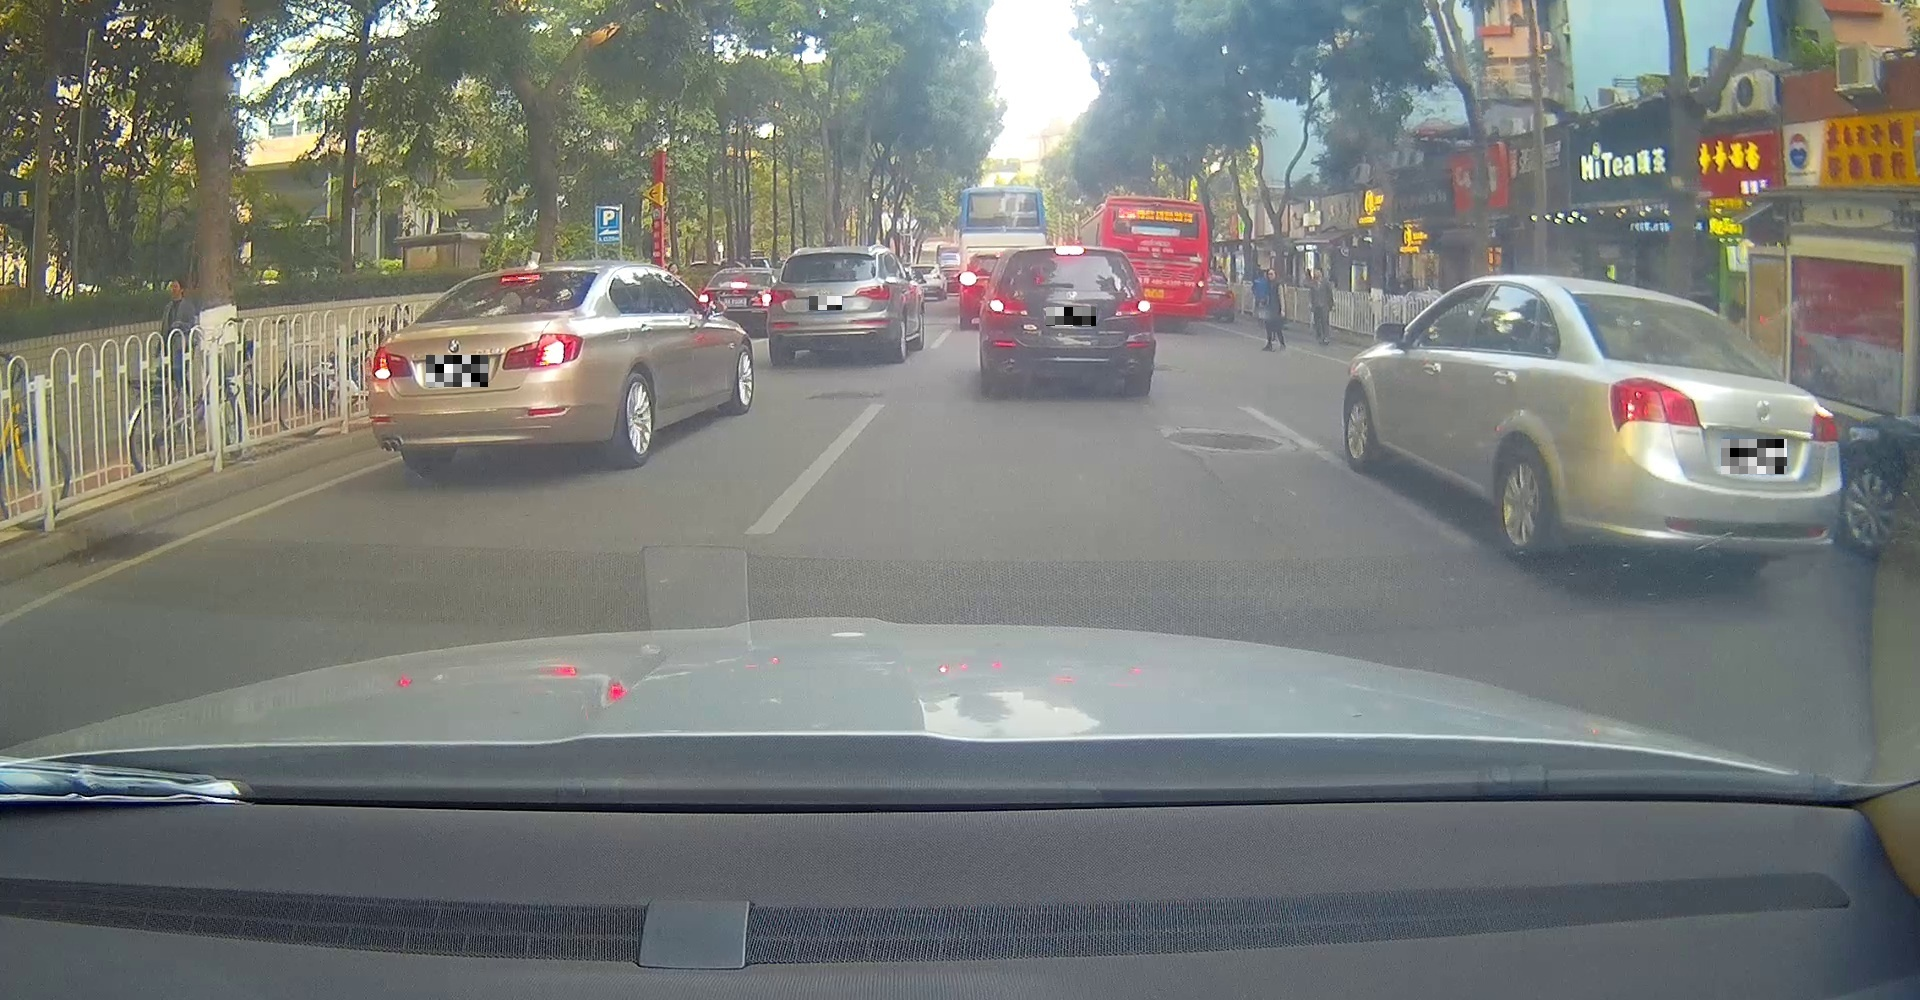L_light: (1608, 377, 1702, 431), (370, 346, 415, 379), (987, 294, 1029, 316), (770, 288, 795, 305)
R_light: (502, 332, 584, 371), (1810, 411, 1840, 442), (1114, 296, 1152, 319), (855, 284, 890, 299)
T_light: (498, 274, 541, 283), (1054, 245, 1084, 256), (1650, 297, 1677, 307), (822, 249, 841, 254)
day-brake: (367, 264, 603, 478), (979, 245, 1157, 398)
day-no: (1568, 280, 1843, 571), (764, 245, 900, 365)
plate_1: (425, 355, 488, 387)
plate_2: (809, 296, 842, 310)
plate_3: (1046, 307, 1096, 326)
plate_4: (1721, 439, 1787, 475)
